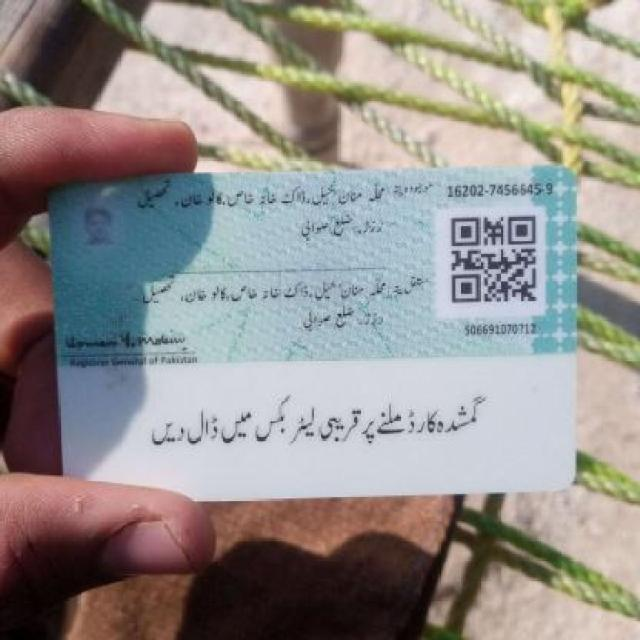Back: (43, 160, 586, 506)
